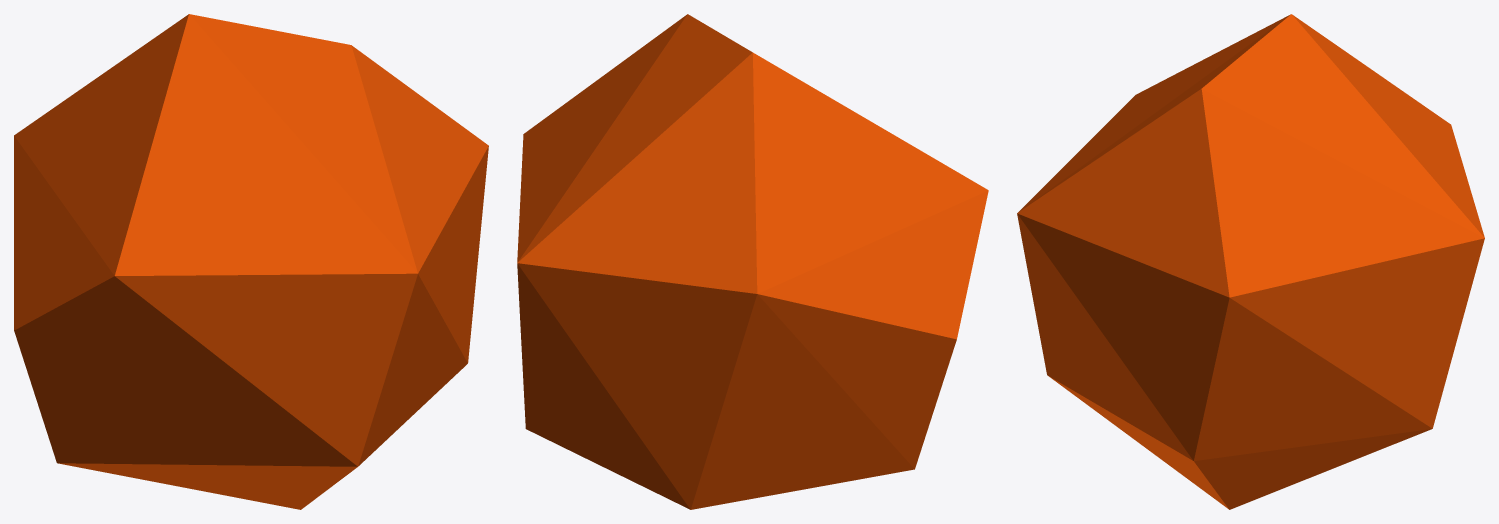
File: tree-autumn-leaves-023.glb
3 renders of one model, left to right at view 1: azimuth 30°, elevation 25°; view 2: azimuth 150°, elevation 25°; view 3: azimuth 270°, elevation 25°, orthographic. The views are drawn at different scales.
Visible parts, largest first — view 1: Icosphere.008_353; view 2: Icosphere.008_353; view 3: Icosphere.008_353.
Part boxes in pixels (bbox=[...]): Icosphere.008_353: bbox=[14, 14, 488, 509]; Icosphere.008_353: bbox=[517, 14, 988, 509]; Icosphere.008_353: bbox=[1017, 14, 1484, 509].
Size of the model in its own units: 1.32 by 1.35 by 1.25.
